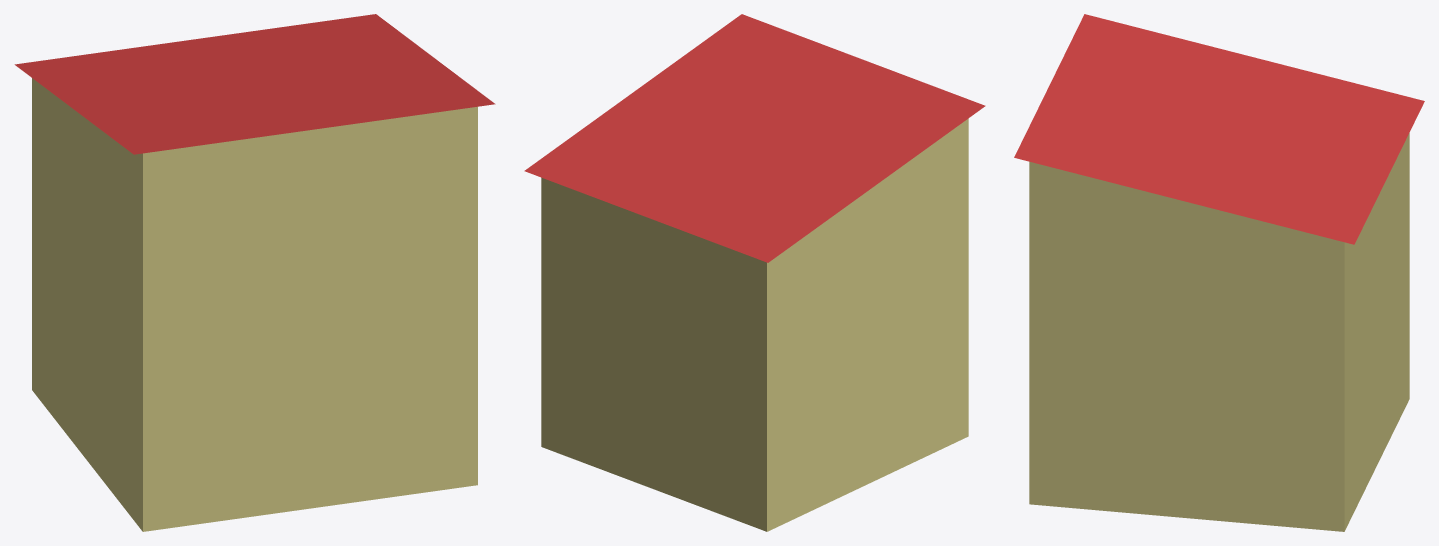
3 views of the same model, side by side, from view 1: azimuth 30°, elevation 25°; view 2: azimuth 150°, elevation 25°; view 3: azimuth 270°, elevation 25° (orthographic). The views are drawn at different scales.
Bounding box in the file's own units: 7.98 × 7.99 × 7.52.
